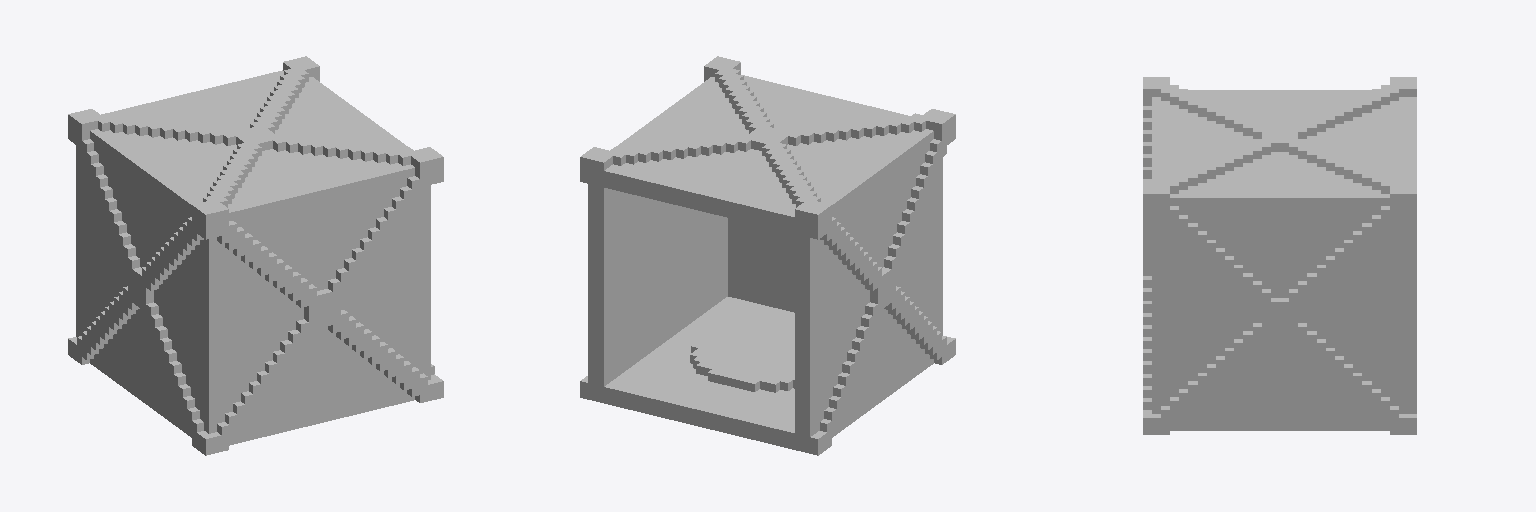
Rendered from crystal grower box.obj.
3 views of the same model, side by side, from view 1: azimuth 30°, elevation 25°; view 2: azimuth 150°, elevation 25°; view 3: azimuth 270°, elevation 25° (orthographic).
Visible parts, largest first — view 1: object 1; view 2: object 1; view 3: object 1.
Boxes of the visible parts, x1=… form: object 1: x1=68, y1=56, x2=443, y2=455; object 1: x1=580, y1=56, x2=955, y2=455; object 1: x1=1143, y1=77, x2=1416, y2=434.
Size of the model in its own units: 3 by 2.9 by 3.